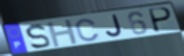6: (127, 11, 149, 36)
C: (75, 18, 101, 42)
H: (46, 18, 81, 49)
J: (105, 14, 125, 39)
P: (148, 7, 174, 34)
S: (24, 23, 52, 50)
